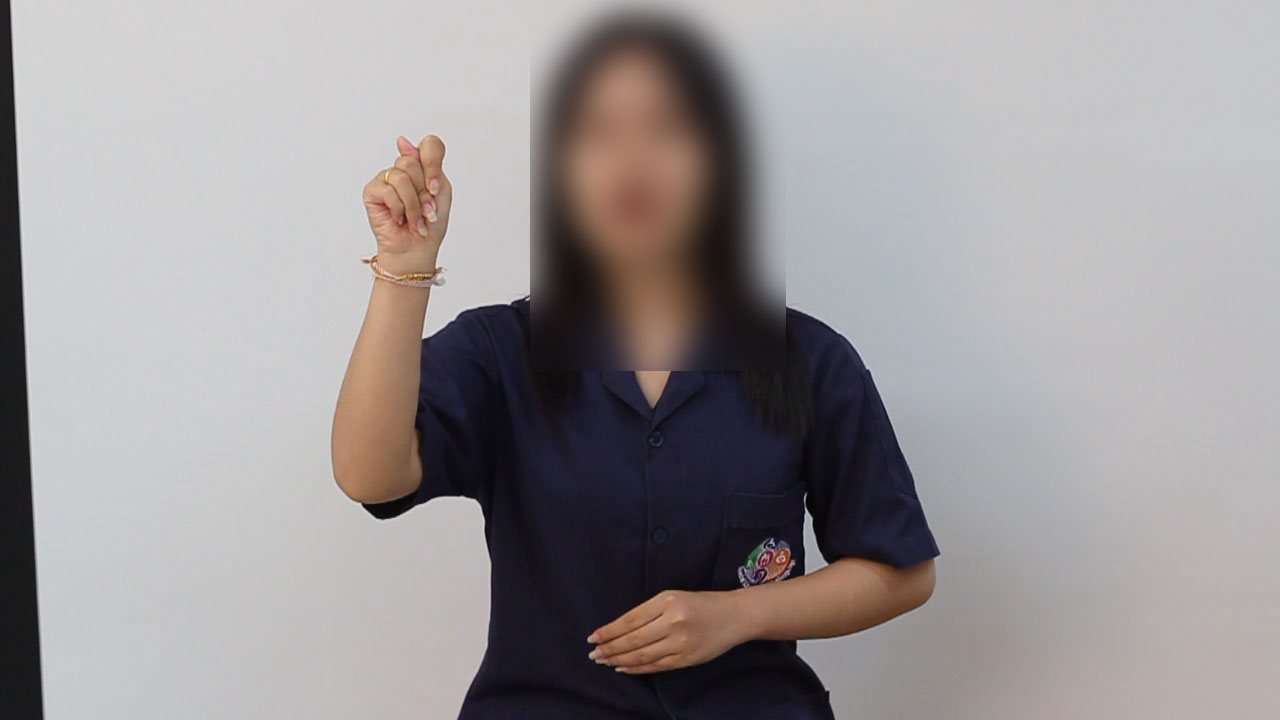tor: (347, 122, 481, 267)
